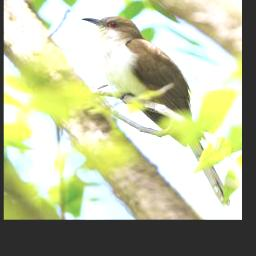Cuckoo: (81, 13, 234, 208)
